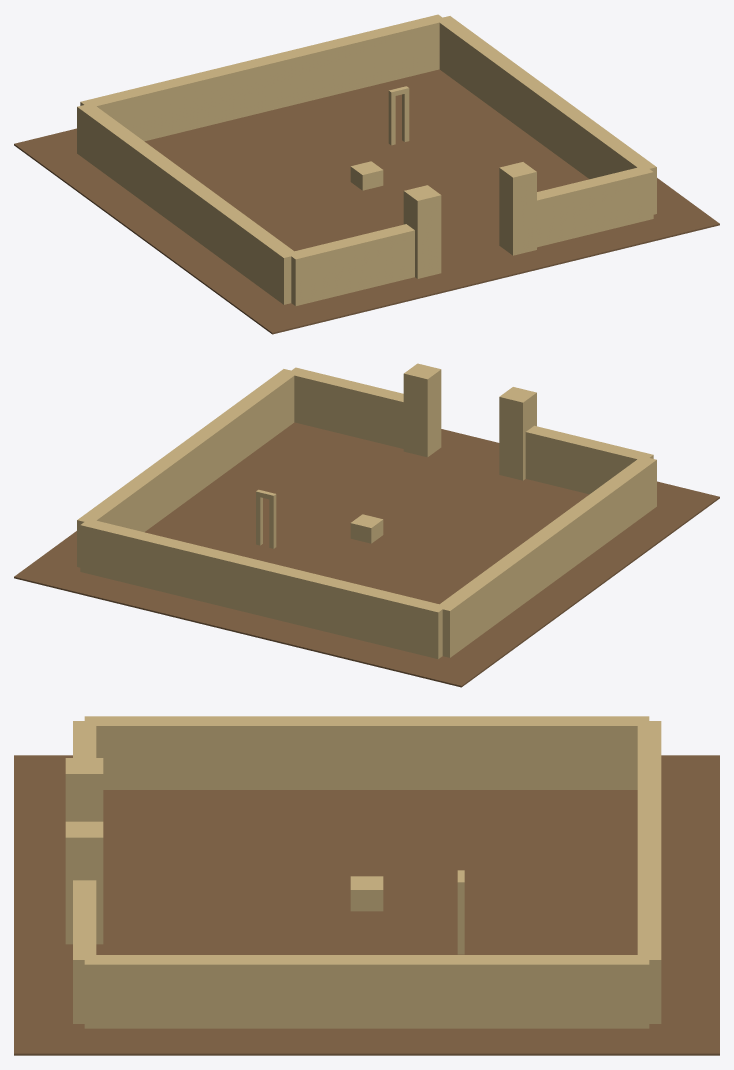
The model's file is gerat.glb.
3 renders of one model, top to bottom at view 1: azimuth 30°, elevation 25°; view 2: azimuth 150°, elevation 25°; view 3: azimuth 270°, elevation 25°, orthographic. The views are drawn at different scales.
Parts seen in each view (by area): view 1: GeratYard; view 2: GeratYard; view 3: GeratYard.
Part boxes in pixels (box(x1,y1,x2,y2)): GeratYard: box(14, 14, 719, 334); GeratYard: box(14, 363, 719, 687); GeratYard: box(14, 716, 719, 1055).
Size of the model in its own units: 30 by 5.1 by 30.
